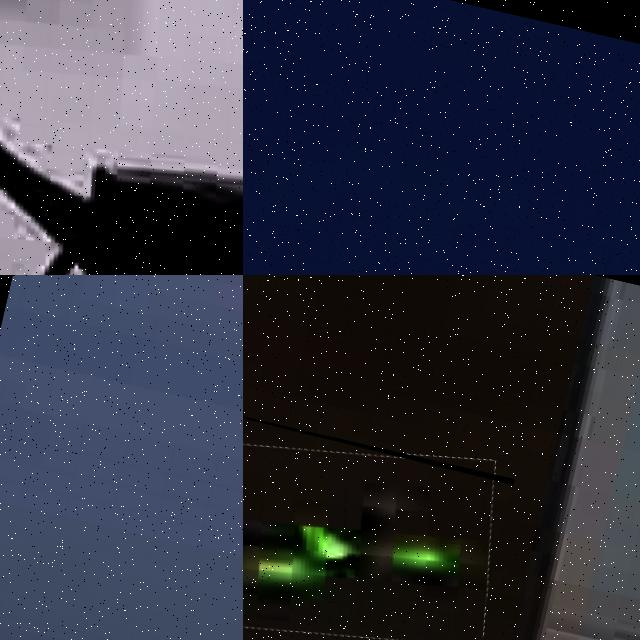drone: (243, 392, 514, 640), (0, 0, 243, 275)
